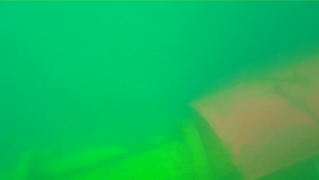leak: (185, 58, 319, 180)
pipe: (1, 116, 238, 180), (255, 153, 319, 179)
